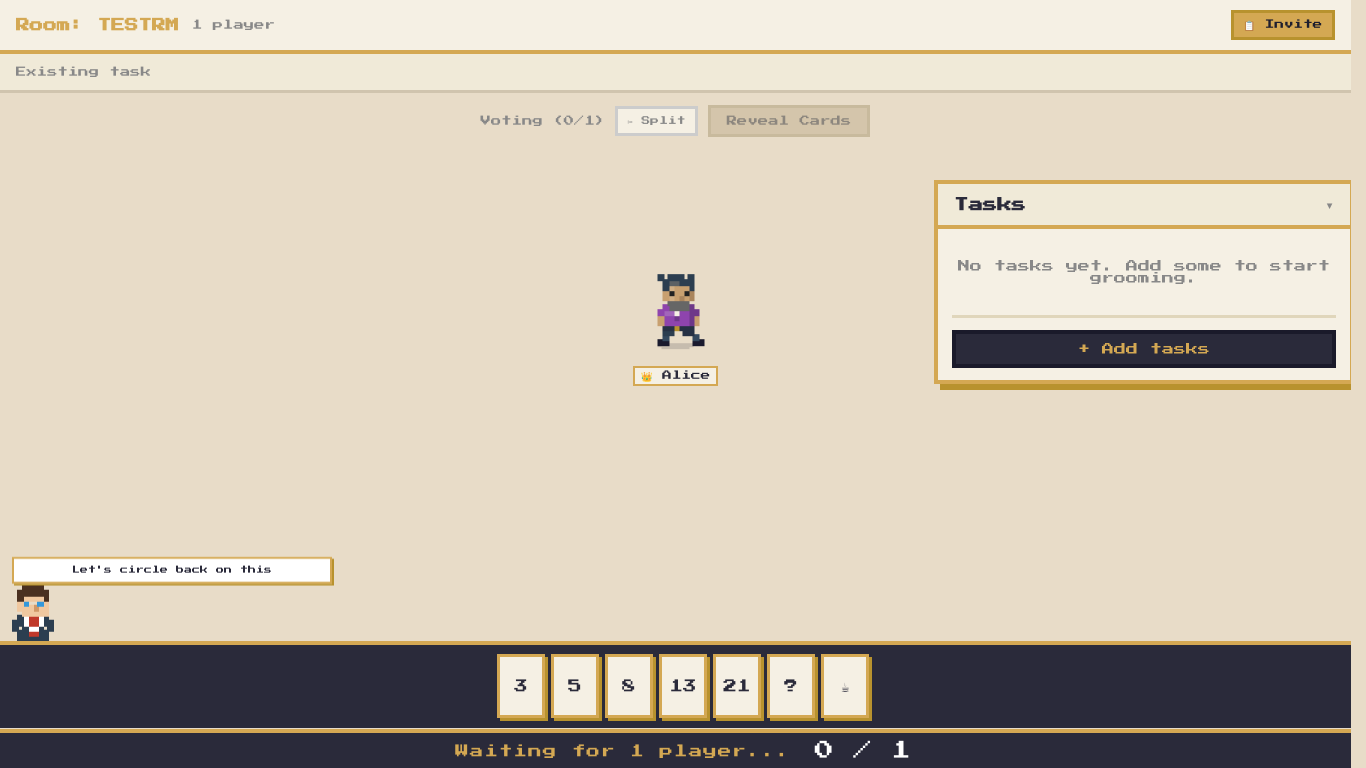
Test: Room — rendering & controls › Y3: task editor Escape key closes without saving
Click the task display to open the editor
Click the text "Existing task": (84, 72) [16, 67, 151, 77]
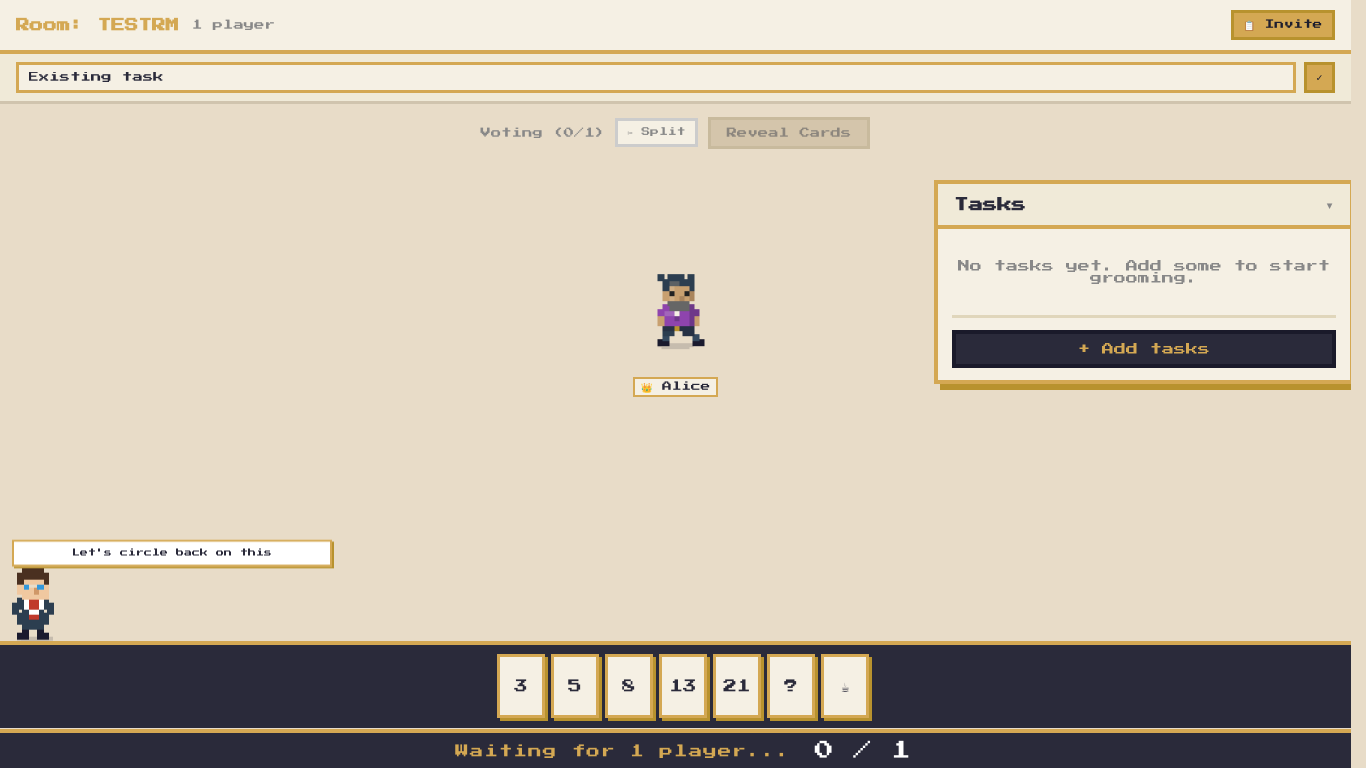
Expected: the field with placeholder "Task name..." is shown
Press Escape — editor should close and reveal the task display again
Press Escape in the field with placeholder "Task name...", box [16, 62, 1296, 93]
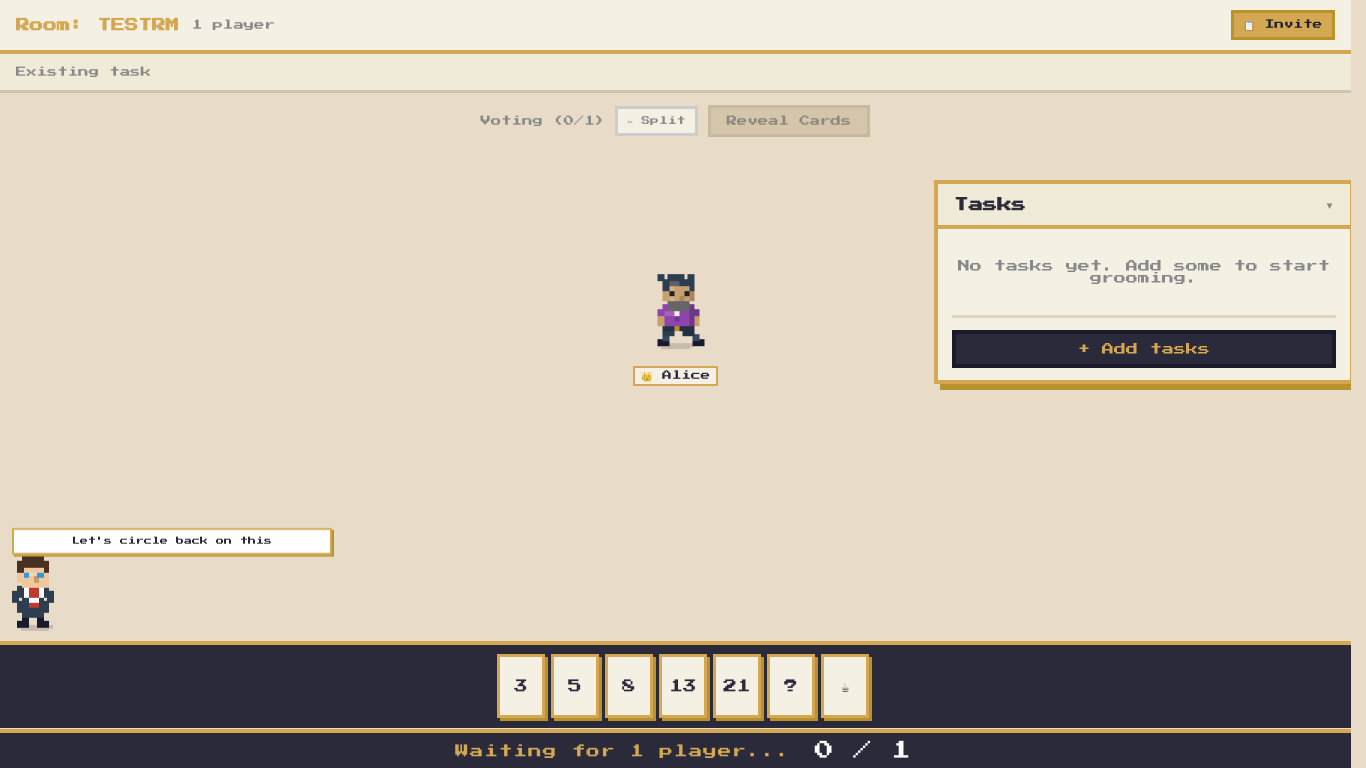
Expected: the text "Existing task" is shown, [16, 67, 151, 77]
